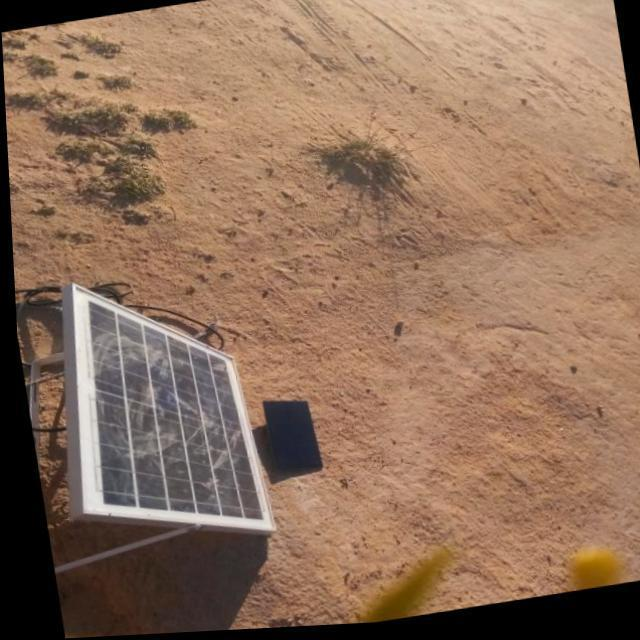Normal Solar Panel: (258, 396, 316, 477)
